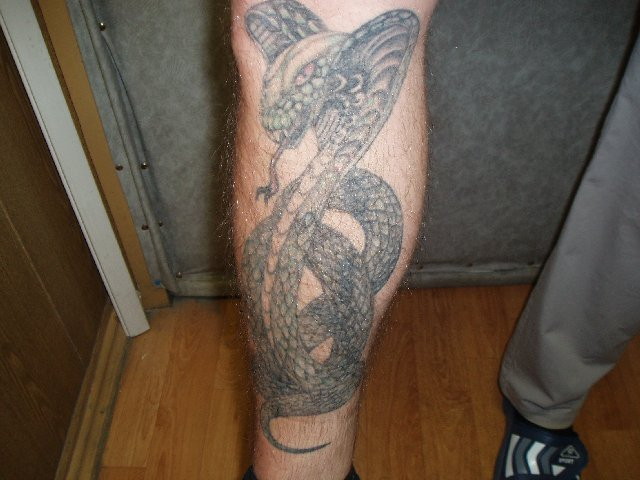tatu7_zmeya: (231, 2, 404, 437)
